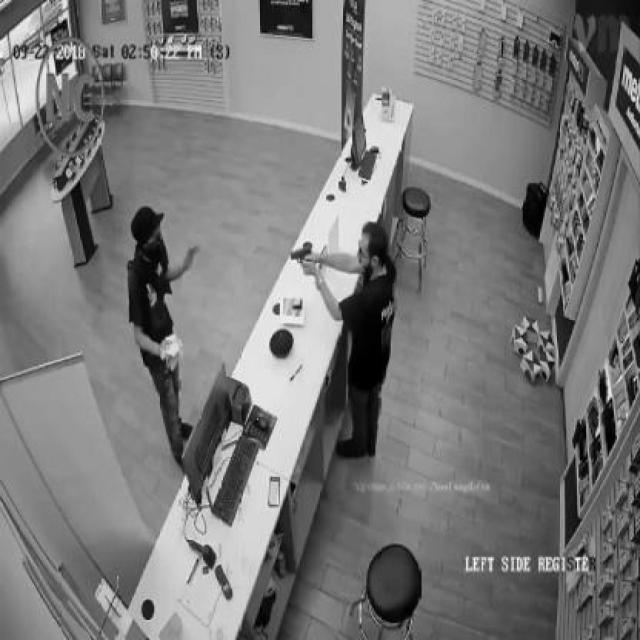weapon: (288, 248, 315, 274)
